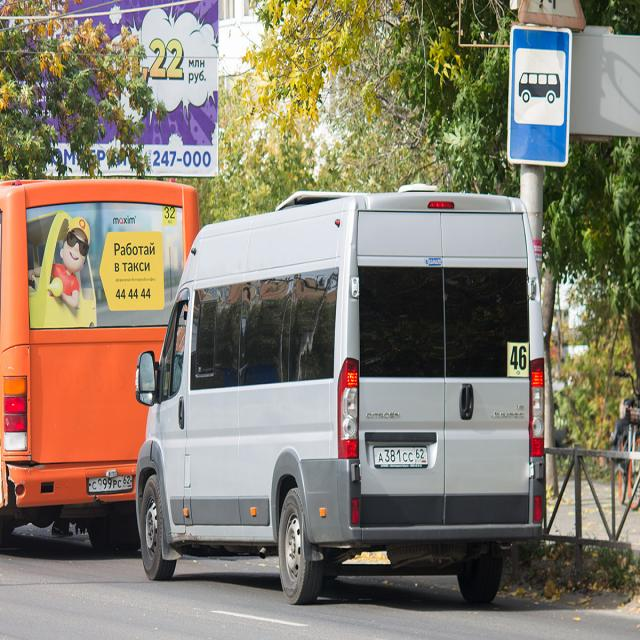number-of-bus: (509, 342, 529, 378)
